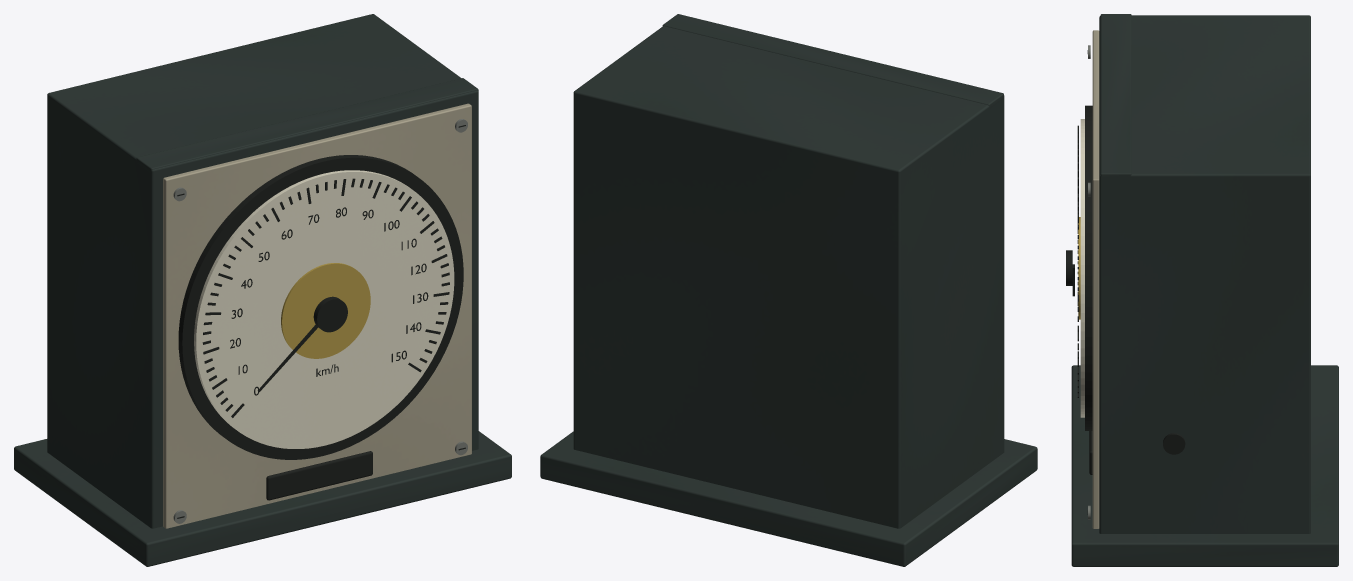
Rendered from speedometer_photo_refined.glb.
3 renders of one model, left to right at view 1: azimuth 30°, elevation 25°; view 2: azimuth 150°, elevation 25°; view 3: azimuth 270°, elevation 25°, orthographic.
Parts seen in each view (by area): view 1: Fixed_Square_Housing, Dial_Face, Fixed_Front_Metal_Panel, Fixed_Foot, Dial_Dark_Bezel, Dial_Yellow_Center, Top_Case_Lip, Fixed_Nameplate, Needle_Cap; view 2: Fixed_Square_Housing, Fixed_Foot, Top_Case_Lip; view 3: Fixed_Square_Housing, Fixed_Foot, Top_Case_Lip, Fixed_Front_Metal_Panel, Dial_Dark_Bezel, Dial_Face, Side_Service_Plug.
Part boxes in pixels (<box>): Fixed_Square_Housing: <box>47,14,478,528</box>; Dial_Face: <box>194,170,454,448</box>; Fixed_Front_Metal_Panel: <box>163,103,471,528</box>; Fixed_Foot: <box>14,431,511,566</box>; Dial_Dark_Bezel: <box>178,155,463,459</box>; Dial_Yellow_Center: <box>281,263,370,358</box>; Top_Case_Lip: <box>136,78,478,172</box>; Fixed_Nameplate: <box>266,451,372,500</box>; Needle_Cap: <box>313,296,347,332</box>; Fixed_Square_Housing: <box>573,26,1004,528</box>; Fixed_Foot: <box>540,431,1037,566</box>; Top_Case_Lip: <box>662,14,1003,108</box>; Fixed_Square_Housing: <box>1099,15,1310,533</box>; Fixed_Foot: <box>1071,365,1338,566</box>; Top_Case_Lip: <box>1100,14,1131,178</box>; Fixed_Front_Metal_Panel: <box>1092,30,1099,528</box>; Dial_Dark_Bezel: <box>1085,105,1092,430</box>; Dial_Face: <box>1080,119,1084,417</box>; Side_Service_Plug: <box>1163,433,1185,454</box>.
Bounding box in the file's own units: 0.19 × 0.1905 × 0.1225.
6 materials, 3 textured.
